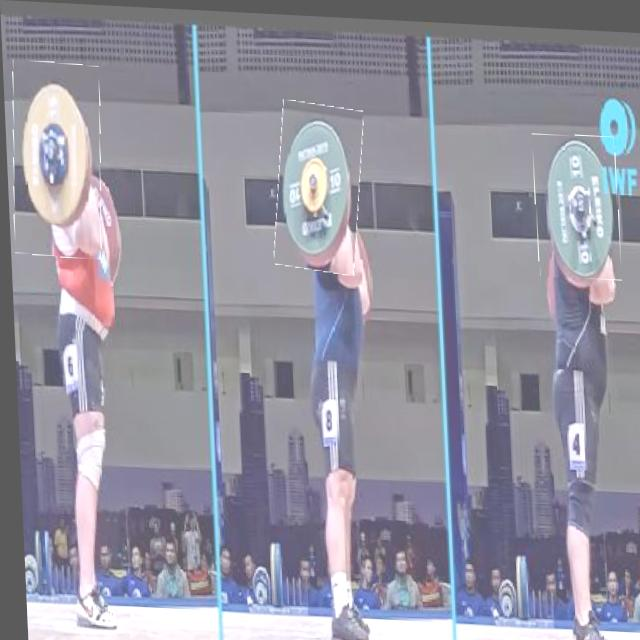barbell: (9, 61, 104, 260), (271, 99, 365, 272), (532, 128, 620, 275)
